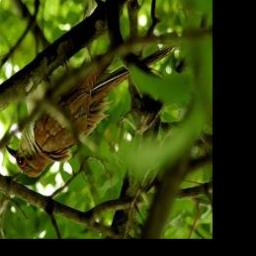Cuckoo: (5, 42, 177, 181)
